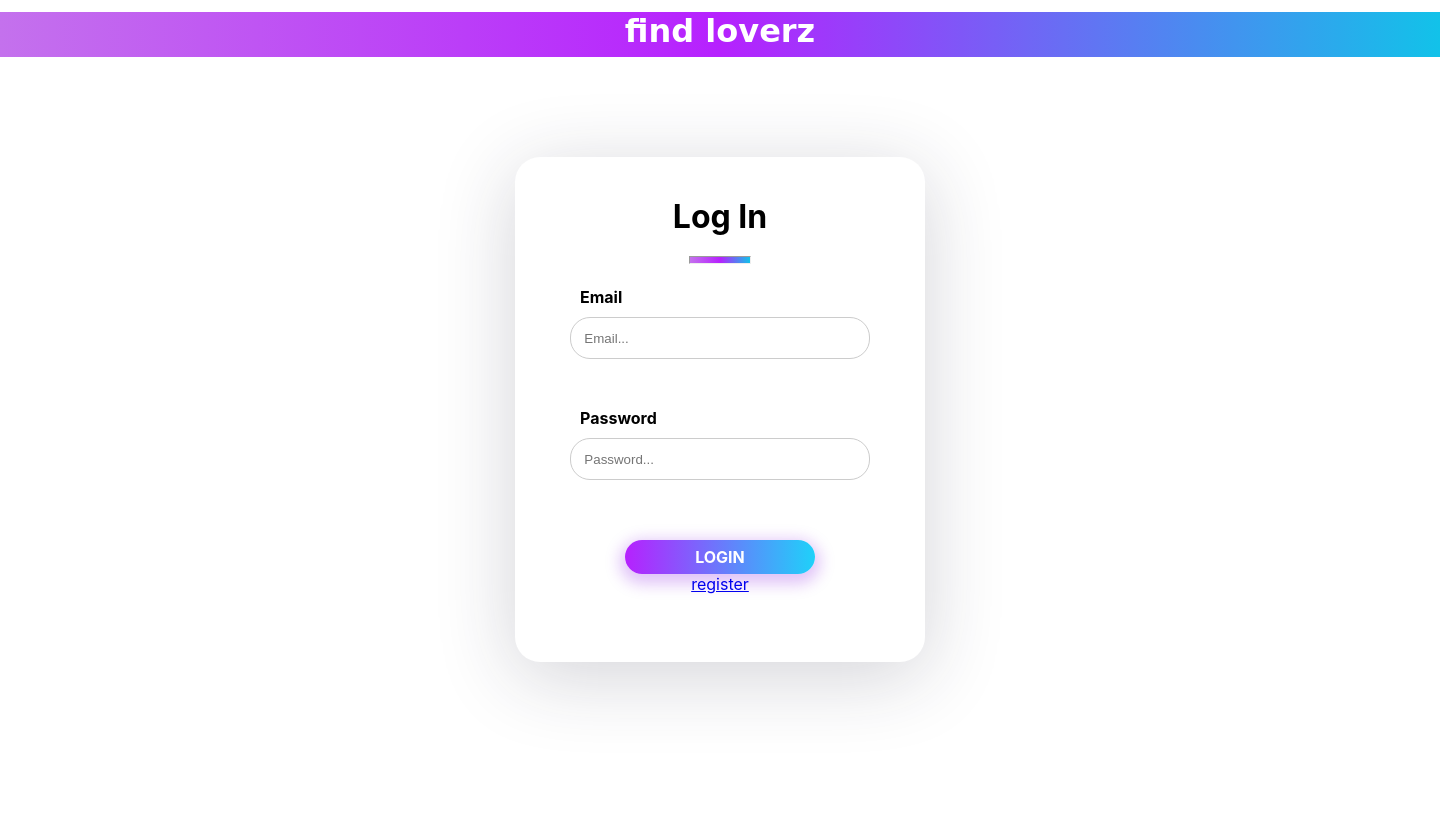
Test: Login Inputs( email, password ) : Empty Fields Testing , Should return error
This screenshot has width=1440, height=822.
Clear the field with placeholder "Email..." at (720, 338), box top-left (570, 317), bottom-right (870, 359)
Clear the password field with placeholder "Password..." at (720, 459), box top-left (570, 438), bottom-right (870, 480)
Click the link "Login".
click(720, 557)  # box top-left (625, 540), bottom-right (815, 574)
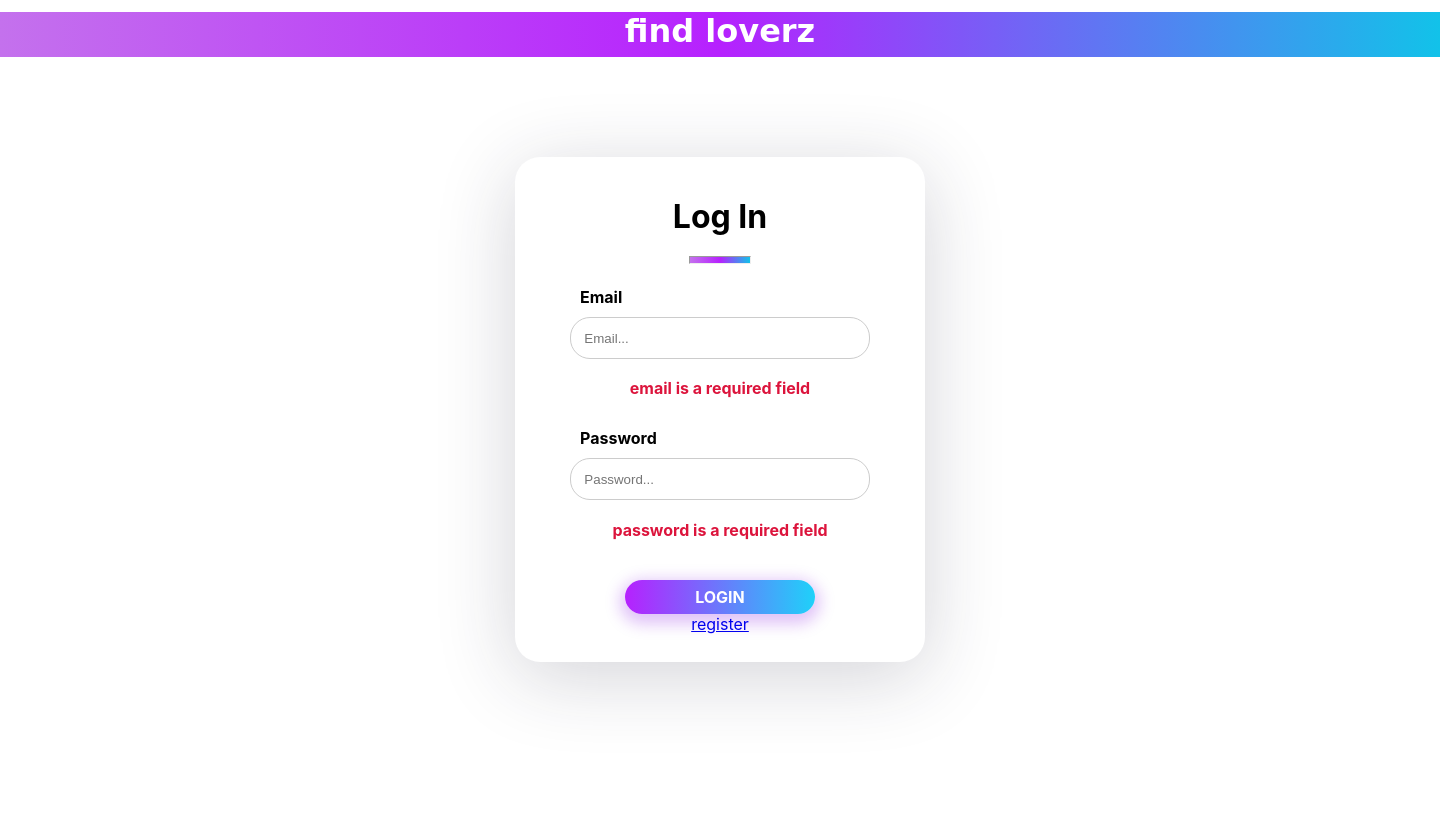
Check: the text "Login" is shown, box top-left (695, 587), bottom-right (745, 607)
Check: the text "email is a required field" is shown, box top-left (630, 378), bottom-right (810, 398)
Check: the text "password is a required field" is shown, box top-left (612, 520), bottom-right (828, 540)
